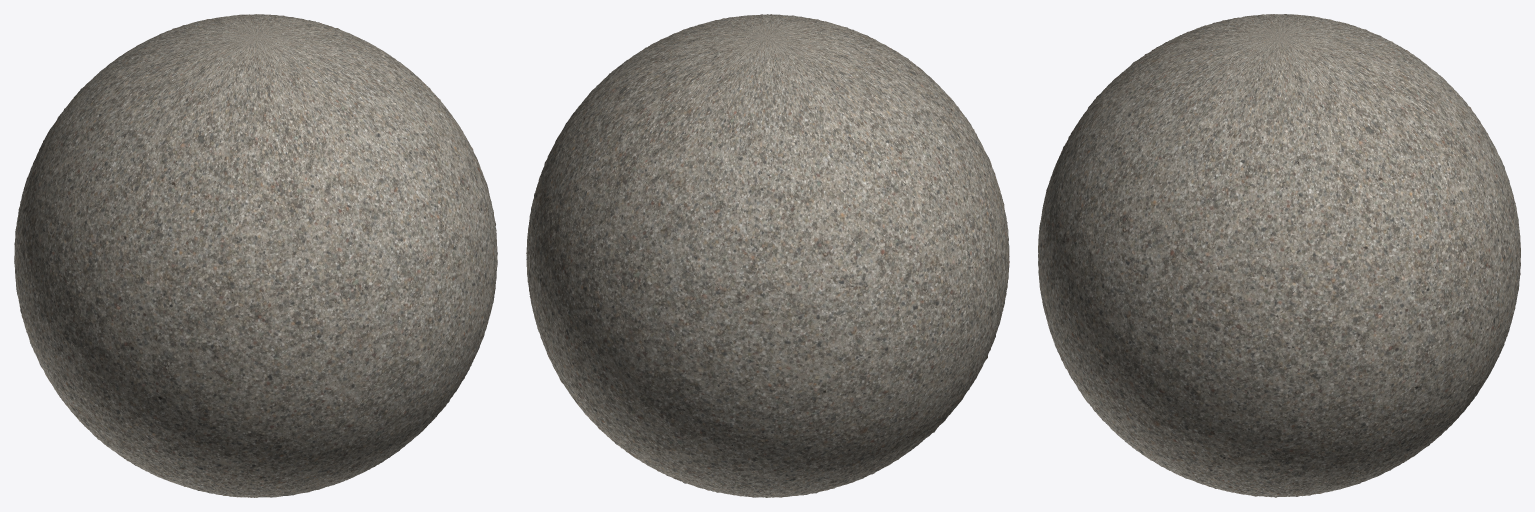
The model's file is gravel_embedded_concrete_1k.gltf.
The picture shows the model from 3 angles, left to right: view 1: azimuth 30°, elevation 25°; view 2: azimuth 150°, elevation 25°; view 3: azimuth 270°, elevation 25°; orthographic projection.
Parts seen in each view (by area): view 1: sphere_gltf; view 2: sphere_gltf; view 3: sphere_gltf.
Boxes of the visible parts, x1=… form: sphere_gltf: x1=14, y1=14, x2=497, y2=497; sphere_gltf: x1=526, y1=14, x2=1009, y2=497; sphere_gltf: x1=1038, y1=14, x2=1520, y2=497.
Size of the model in its own units: 2 by 2 by 2.
1 material, 1 textured.
